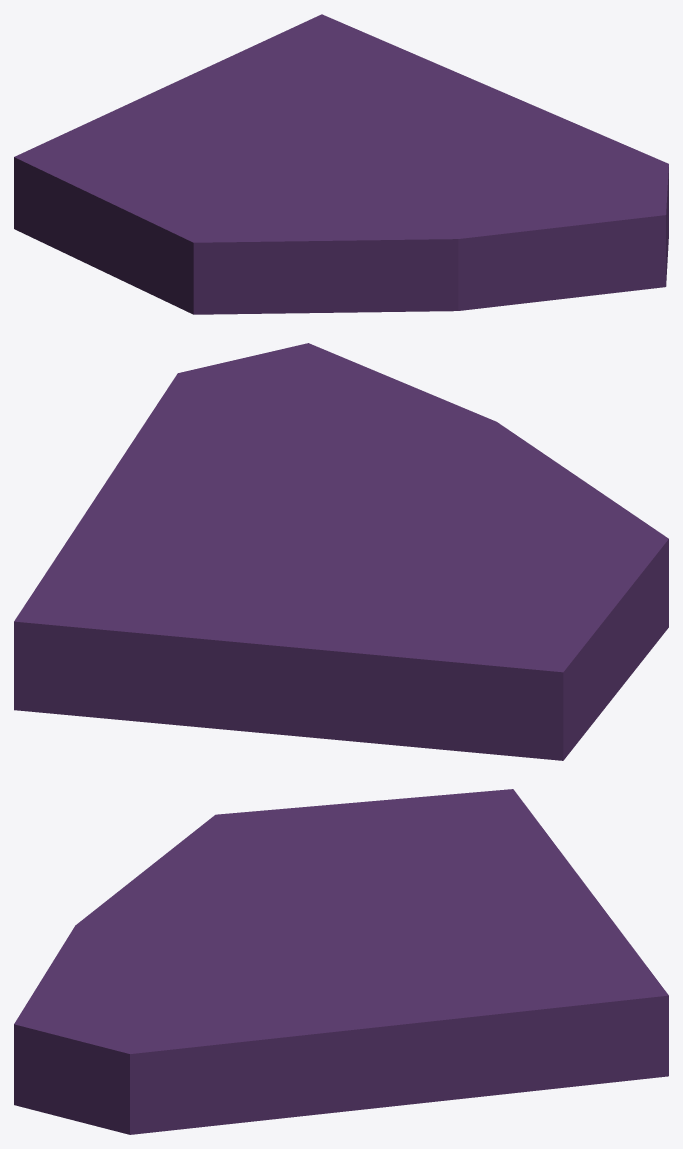
File: Rock_5.fbx
3 views of the same model, one above another, from view 1: azimuth 30°, elevation 25°; view 2: azimuth 150°, elevation 25°; view 3: azimuth 270°, elevation 25° (orthographic). The views are drawn at different scales.
Visible parts, largest first — view 1: rock_model.025; view 2: rock_model.025; view 3: rock_model.025.
Boxes of the visible parts, x1,y1,x2,y2 form: rock_model.025: (14,14,668,314); rock_model.025: (14,343,668,760); rock_model.025: (14,789,668,1134).
Bounding box in the file's own units: 428 × 60.77 × 446.
